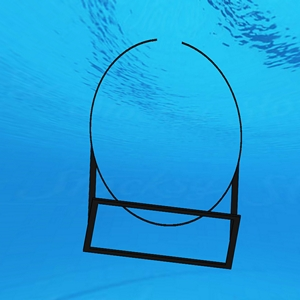circle: (80, 37, 245, 274)
